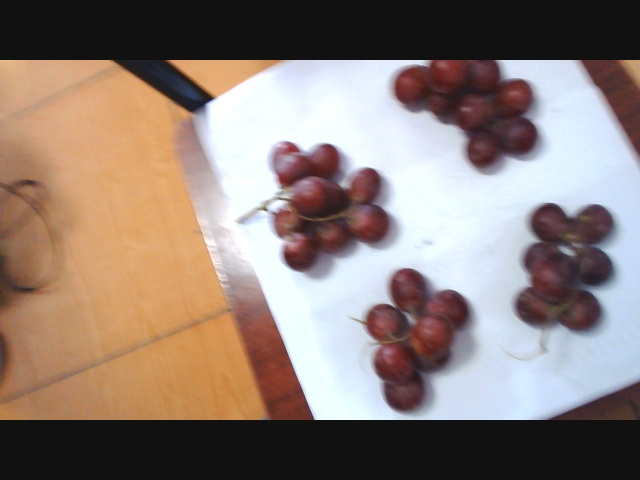grape: (257, 135, 400, 263), (511, 188, 622, 339), (350, 271, 476, 404), (390, 62, 543, 161)
